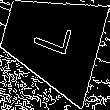L_W: (27, 18, 75, 63)
